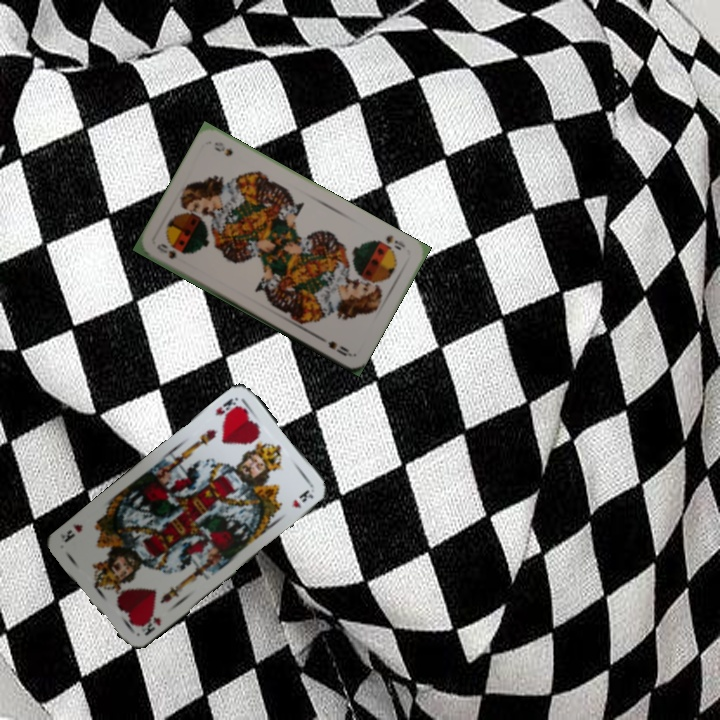HK: (211, 394, 243, 421), (133, 611, 164, 638)
SO: (153, 239, 180, 262), (382, 231, 408, 253)
